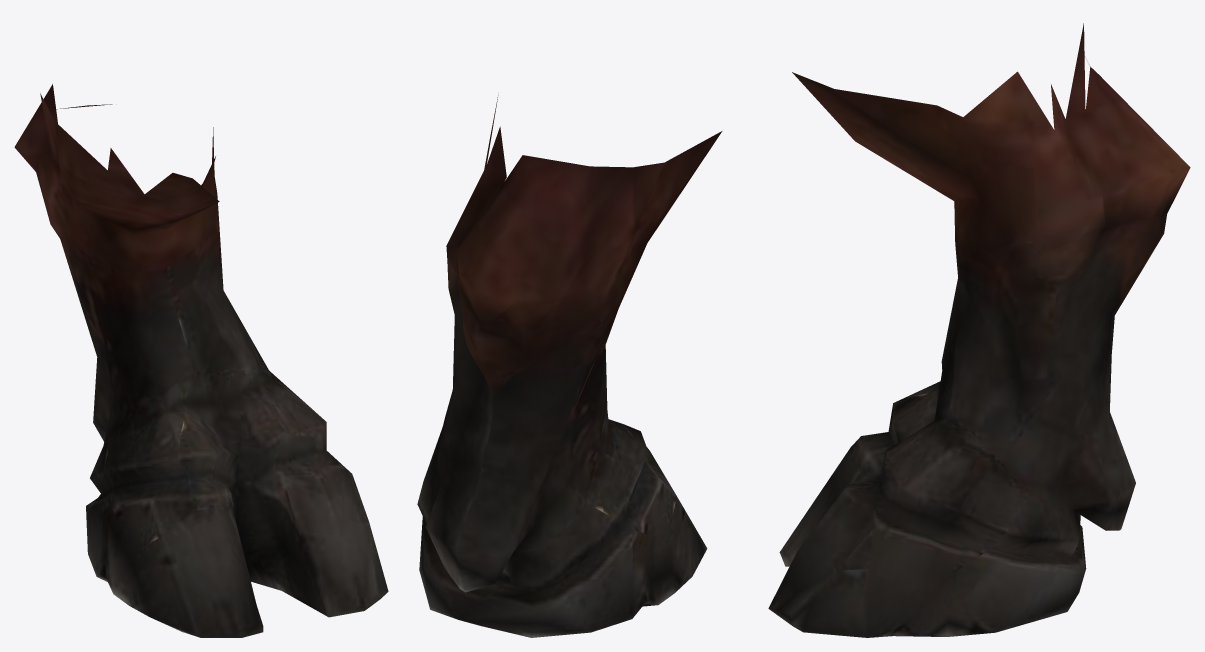
Rendered from gorehorn_leg_bposx.glb.
The picture shows the model from 3 angles, left to right: view 1: azimuth 30°, elevation 25°; view 2: azimuth 150°, elevation 25°; view 3: azimuth 270°, elevation 25°; orthographic projection. The views are drawn at different scales.
Parts seen in each view (by area): view 1: gorehorn_leg_bposx; view 2: gorehorn_leg_bposx; view 3: gorehorn_leg_bposx.
Boxes of the visible parts, box(x1,y1,x2,y2) form: gorehorn_leg_bposx: box(14, 84, 388, 637); gorehorn_leg_bposx: box(417, 95, 722, 637); gorehorn_leg_bposx: box(768, 23, 1190, 637).
Bounding box in the file's own units: 1.49 × 2.85 × 2.04.
1 material, 1 textured.
